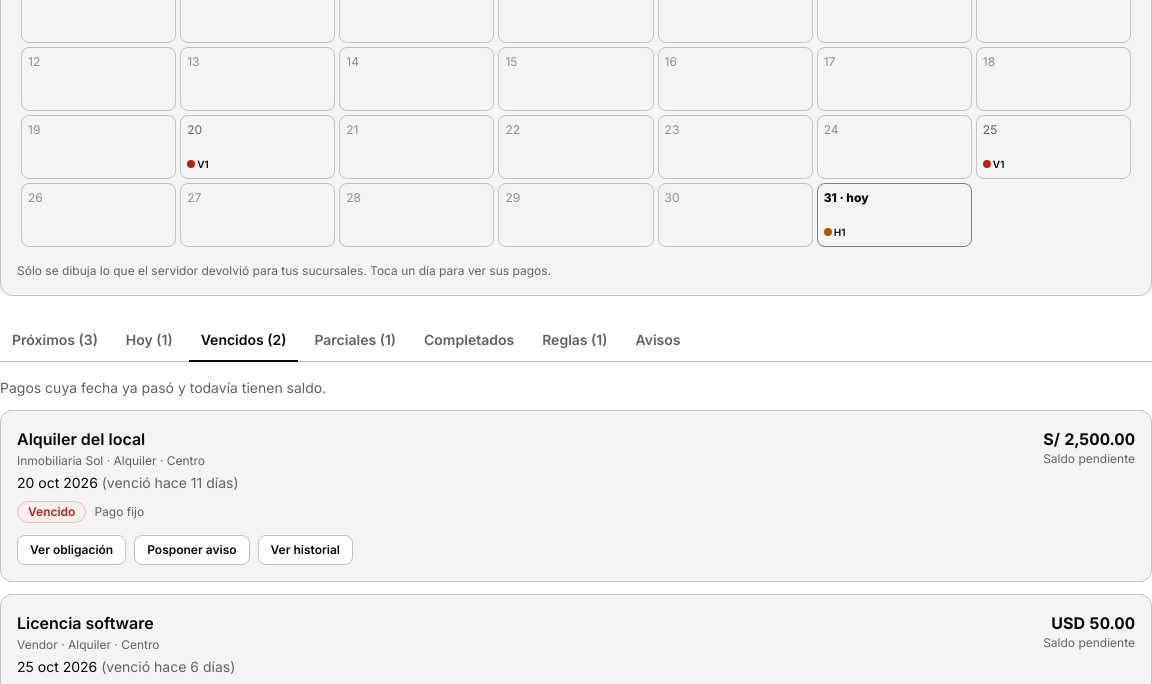
it: tabs › loads the completed ones only when asked, from the last 90 days
(page scrolled)
What coordinates should you click on to do the following:
click the tab "Completados"
I would click on:
 (469, 341)
Its box is x1=412 y1=320 x2=526 y2=362.
(page scrolled)
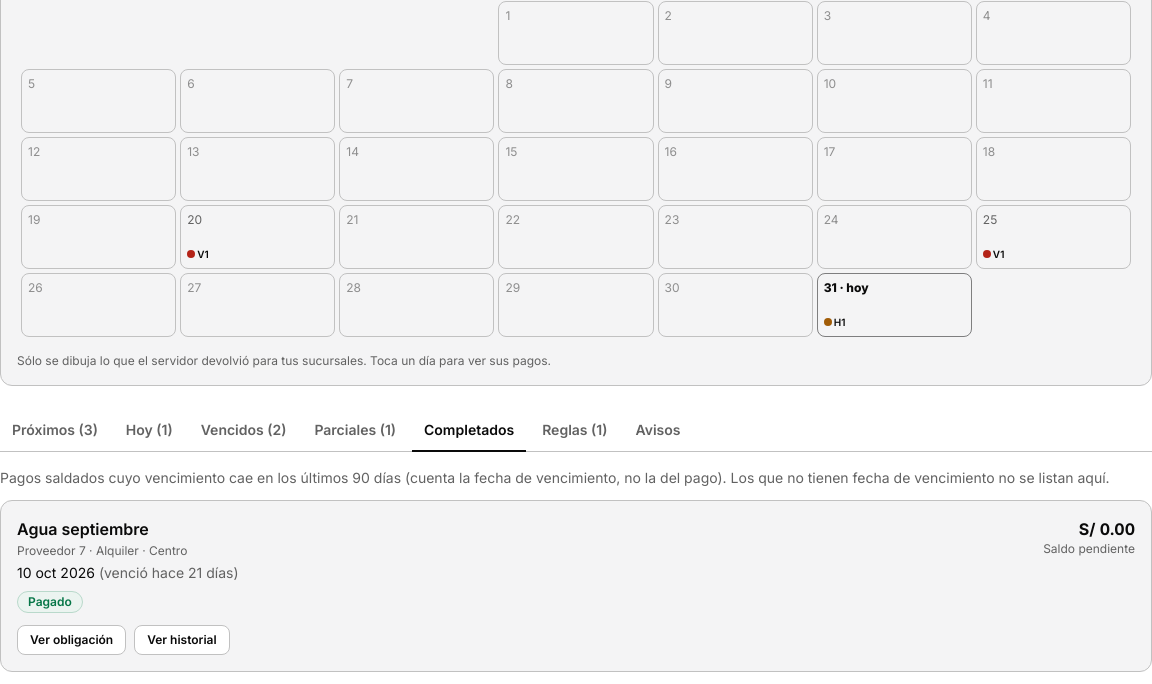
Now the text "Agua septiembre" is shown, box x1=17 y1=519 x2=149 y2=539
